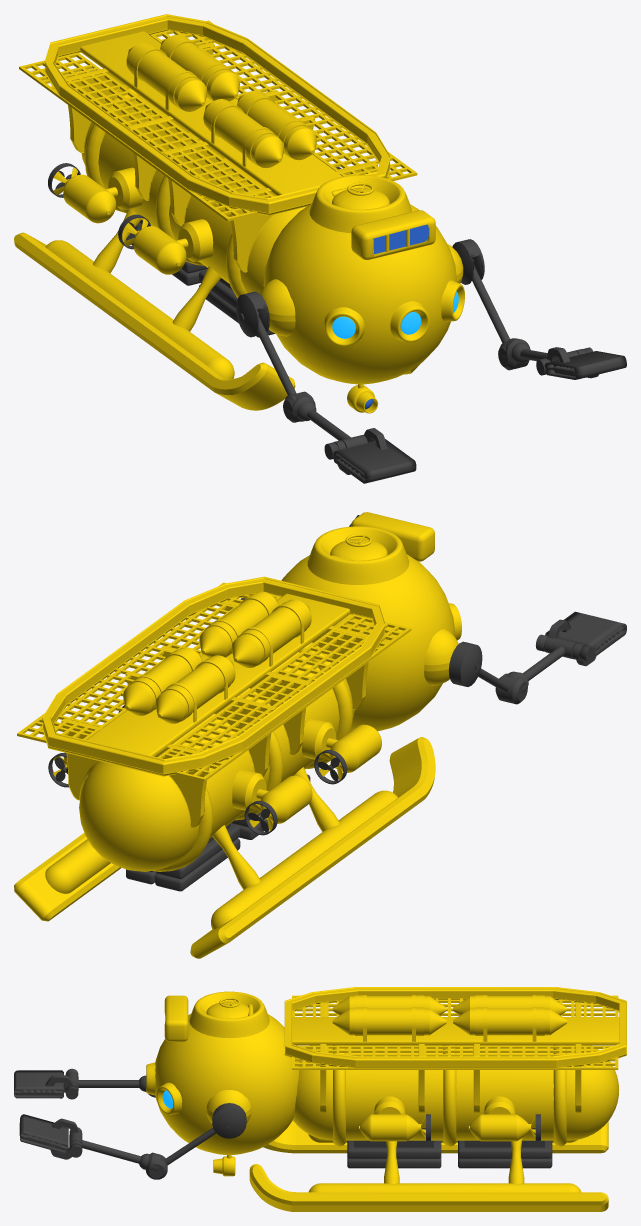
The model's file is submarine.FBX.
The picture shows the model from 3 angles, top to bottom: view 1: azimuth 30°, elevation 25°; view 2: azimuth 150°, elevation 25°; view 3: azimuth 270°, elevation 25°; orthographic projection. The views are drawn at different scales.
Parts seen in each view (by area): view 1: Pod Front, Top Rail, Cage Left, Rail 01, Sub Back, Tanks Board, Cage Right, Pad 01, Port Door Rim, Tank 02, Tank 01, Light Housing Top (+26 smaller); view 2: Sub Back, Top Rail, Pod Front, Rail 01, Cage Left, Tanks Board, Cage Right, Port Door Rim, Pad 01, Rail 02, Support 01, Tank 02 (+24 smaller); view 3: Sub Back, Pod Front, Top Rail, Rail 02, Tanks Board, Cage Right, Pad 02, Rail 01, Port Door Rim, Tank 04, Tank 03, Engine Front 04 (+31 smaller).
Part boxes in pixels (bbox=[...]): Pod Front: bbox=[263, 204, 456, 384]; Top Rail: bbox=[44, 14, 390, 215]; Cage Left: bbox=[19, 52, 274, 221]; Rail 01: bbox=[14, 232, 295, 410]; Sub Back: bbox=[81, 85, 306, 293]; Tanks Board: bbox=[80, 31, 342, 195]; Cage Right: bbox=[150, 20, 417, 180]; Pad 01: bbox=[45, 240, 234, 378]; Port Door Rim: bbox=[309, 175, 411, 233]; Tank 02: bbox=[126, 42, 207, 111]; Tank 01: bbox=[203, 99, 283, 168]; Light Housing Top: bbox=[351, 210, 435, 259]; Sub Back: bbox=[79, 642, 354, 871]; Top Rail: bbox=[42, 576, 385, 776]; Pod Front: bbox=[281, 554, 455, 731]; Rail 01: bbox=[190, 737, 435, 958]; Cage Left: bbox=[158, 614, 411, 781]; Tanks Board: bbox=[87, 593, 350, 756]; Cage Right: bbox=[17, 582, 281, 742]; Port Door Rim: bbox=[307, 526, 409, 584]; Pad 01: bbox=[211, 790, 397, 929]; Rail 02: bbox=[14, 833, 121, 921]; Support 01: bbox=[61, 718, 209, 827]; Tank 02: bbox=[155, 655, 235, 723]; Sub Back: bbox=[293, 1045, 618, 1140]; Pod Front: bbox=[155, 1013, 299, 1154]; Top Rail: bbox=[284, 987, 626, 1067]; Rail 02: bbox=[249, 1164, 608, 1211]; Tanks Board: bbox=[292, 1017, 619, 1045]; Cage Right: bbox=[292, 1045, 618, 1069]; Pad 02: bbox=[308, 1183, 581, 1192]; Rail 01: bbox=[263, 1120, 608, 1153]; Port Door Rim: bbox=[189, 991, 269, 1038]; Tank 04: bbox=[453, 1008, 566, 1035]; Tank 03: bbox=[332, 1008, 446, 1035]; Engine Front 04: bbox=[360, 1114, 418, 1141].
Bounding box in the file's own units: 1.53 × 1.26 × 3.9.
